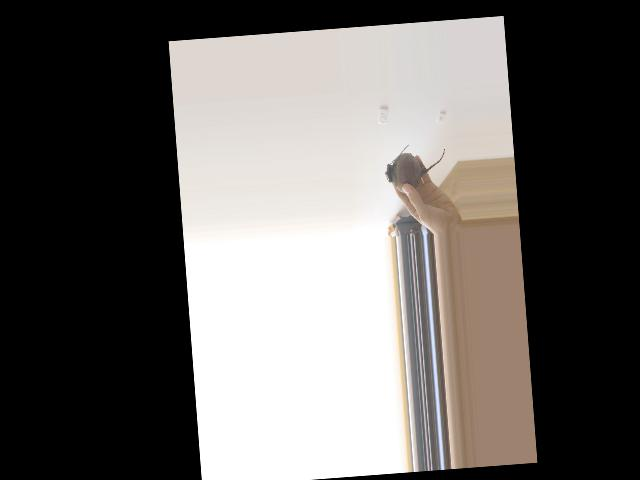beet: (383, 141, 448, 194)
